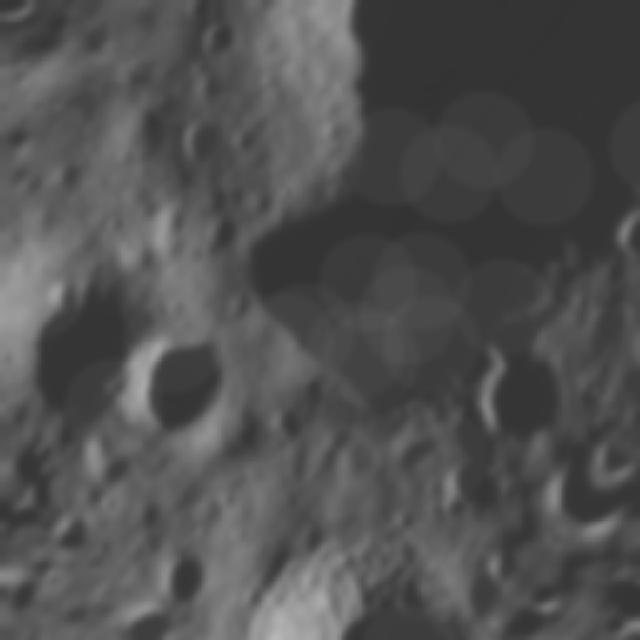crater: (107, 0, 640, 491), (215, 492, 496, 640), (0, 245, 183, 448), (94, 300, 255, 468), (456, 331, 592, 464), (470, 290, 559, 382), (421, 376, 513, 464), (136, 528, 224, 618), (517, 442, 603, 533), (429, 432, 518, 518), (160, 96, 240, 178), (438, 552, 508, 622), (0, 415, 58, 498), (575, 286, 640, 354), (573, 420, 633, 488), (106, 38, 168, 102), (188, 8, 249, 70), (34, 260, 94, 322), (86, 438, 146, 499), (262, 394, 322, 451), (600, 188, 640, 272), (609, 283, 640, 391), (478, 536, 532, 590), (195, 204, 248, 258), (54, 497, 109, 548), (43, 149, 92, 200), (144, 76, 190, 126), (221, 110, 268, 158), (264, 167, 308, 211), (172, 0, 225, 31), (276, 452, 313, 490)
